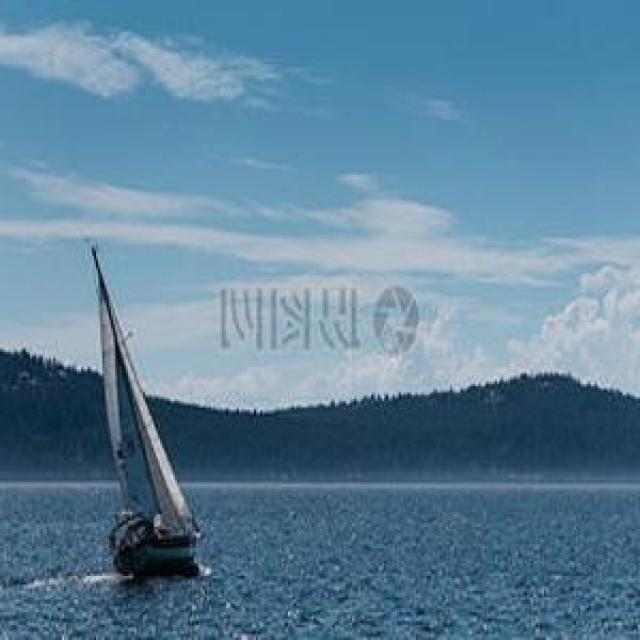sailboat: (63, 231, 198, 588)
